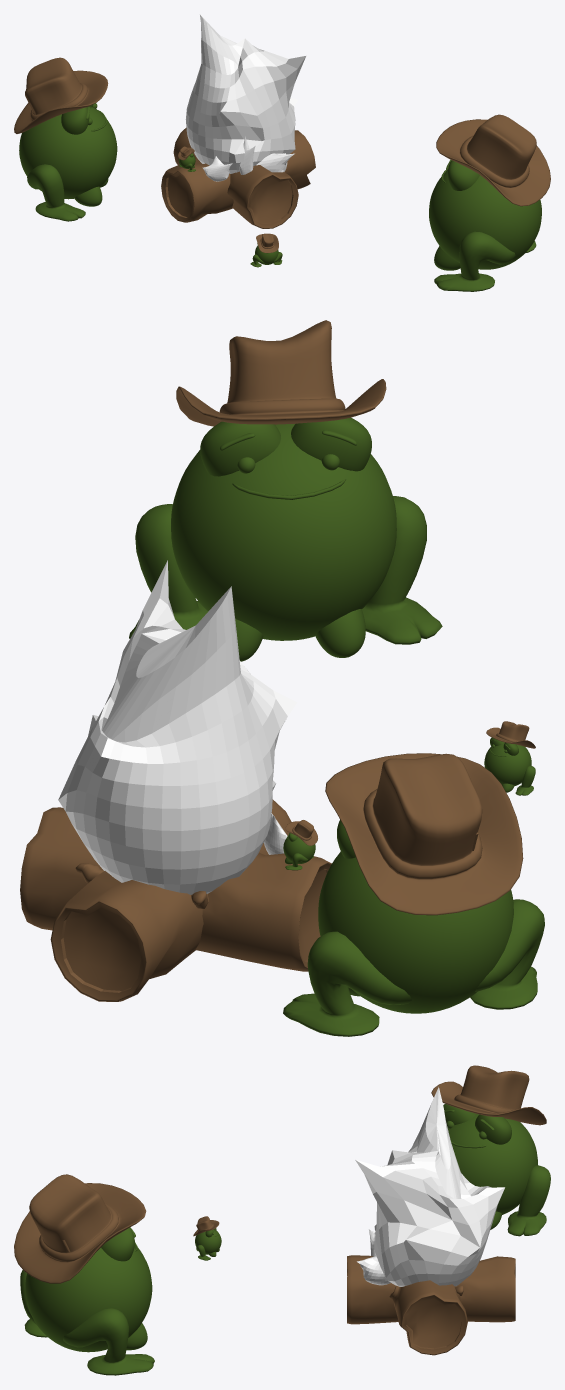
Rendered from tiny_fire_test.glb.
3 renders of one model, top to bottom at view 1: azimuth 30°, elevation 25°; view 2: azimuth 150°, elevation 25°; view 3: azimuth 270°, elevation 25°, orthographic. The views are drawn at different scales.
Parts seen in each view (by area): view 1: frog_boi (×3), Large Fire, hat_boi (×3), log_boi (×2), Mini Fire 1, Mini Fire 3, Mini Fire 2; view 2: frog_boi (×3), Large Fire, hat_boi (×2), log_boi (×2); view 3: frog_boi (×3), Large Fire, hat_boi (×2), log_boi (×2), Mini Fire 1.
Boxes of the visible parts, bbox=[...] form: frog_boi (×3): bbox=[19, 103, 541, 291]; Large Fire: bbox=[185, 14, 305, 173]; hat_boi (×3): bbox=[14, 57, 550, 253]; log_boi (×2): bbox=[161, 127, 315, 228]; Mini Fire 1: bbox=[256, 153, 294, 172]; Mini Fire 3: bbox=[202, 156, 232, 181]; Mini Fire 2: bbox=[239, 135, 255, 174]; frog_boi (×3): bbox=[129, 417, 544, 1036]; Large Fire: bbox=[58, 560, 297, 894]; hat_boi (×2): bbox=[176, 320, 523, 915]; log_boi (×2): bbox=[20, 799, 331, 1001]; frog_boi (×3): bbox=[20, 1104, 550, 1375]; Large Fire: bbox=[355, 1087, 504, 1286]; hat_boi (×2): bbox=[14, 1065, 546, 1283]; log_boi (×2): bbox=[347, 1255, 515, 1355]; Mini Fire 1: bbox=[357, 1256, 390, 1285].
Size of what is drawn, in the model's own units: 8.18 by 4.28 by 9.59.
